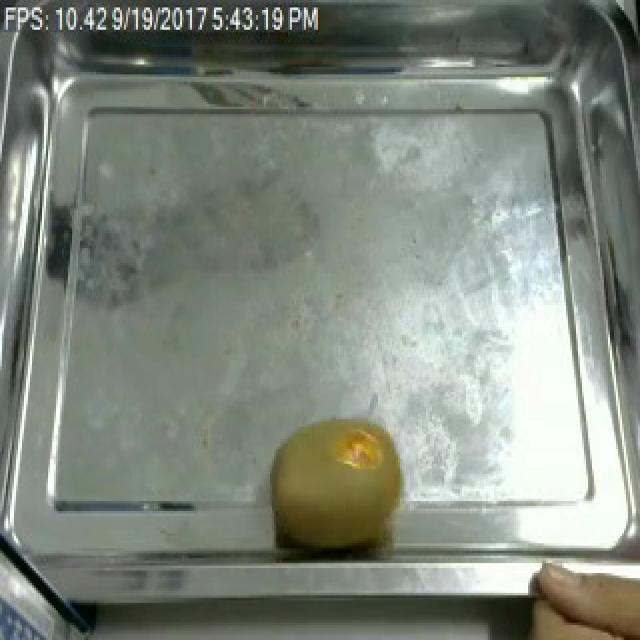Fruit: (260, 404, 420, 556)
